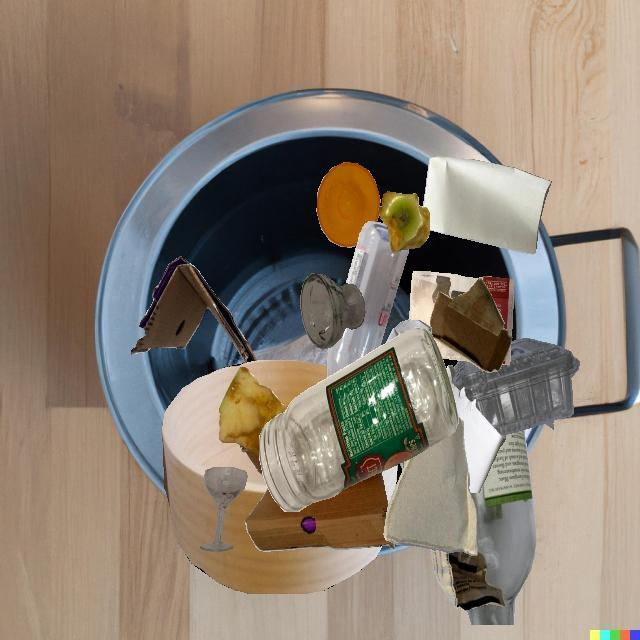biowaste: (219, 367, 288, 461), (378, 191, 430, 253)
cardboard: (131, 256, 257, 363), (384, 416, 478, 556), (245, 472, 394, 551), (430, 278, 512, 372)
combustible waste: (162, 360, 382, 594)
glass: (260, 328, 458, 511), (467, 429, 536, 625), (300, 273, 365, 349), (200, 467, 247, 552)
paper: (423, 156, 551, 254), (446, 365, 505, 493), (433, 280, 502, 365), (429, 548, 505, 611), (409, 271, 486, 327), (486, 276, 514, 336), (433, 338, 469, 361), (502, 341, 511, 365)
plastic: (327, 221, 409, 378), (453, 338, 579, 435), (316, 162, 380, 247)
